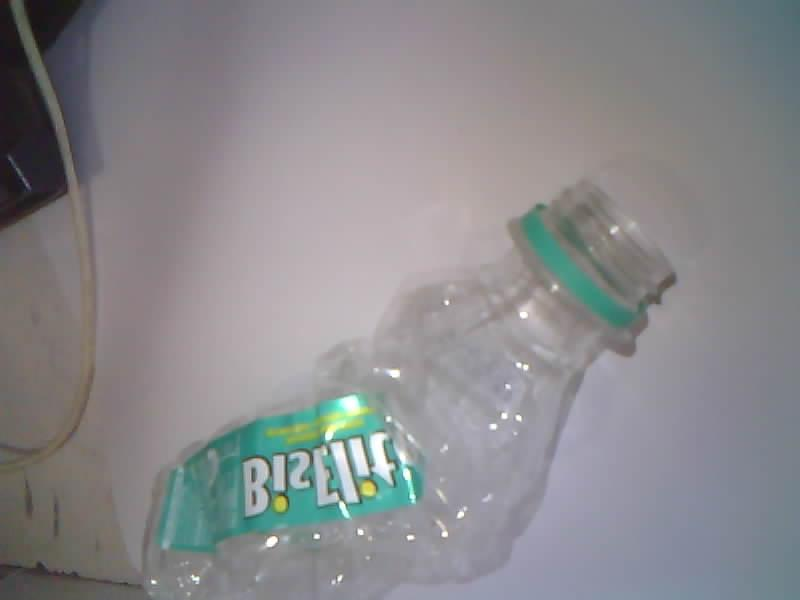non-biodegradable: (143, 184, 670, 599)
